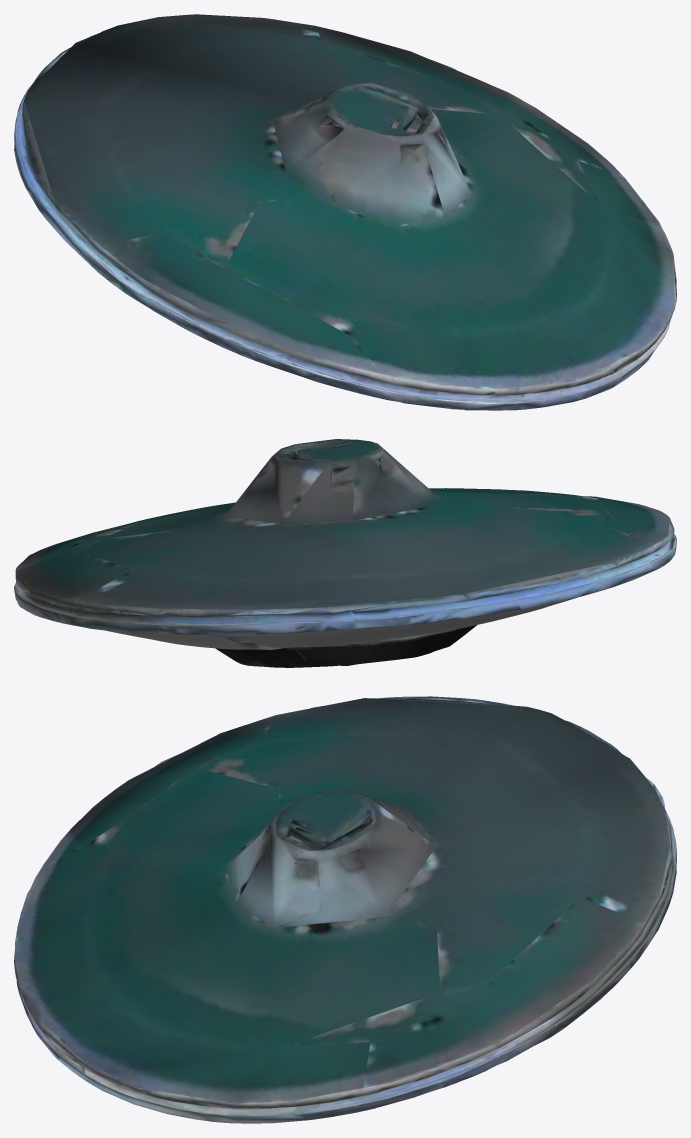
3 views of the same model, one above another, from view 1: azimuth 30°, elevation 25°; view 2: azimuth 150°, elevation 25°; view 3: azimuth 270°, elevation 25° (orthographic). The views are drawn at different scales.
Visible parts, largest first — view 1: geometry_0; view 2: geometry_0; view 3: geometry_0.
Part boxes in pixels (x1,y1,x2,y2): geometry_0: (14,14,676,410); geometry_0: (14,439,676,667); geometry_0: (14,696,676,1123).
Size of the model in its own units: 0.9823 by 0.3641 by 0.9973.
Materials: 1 (1 with a texture image).
